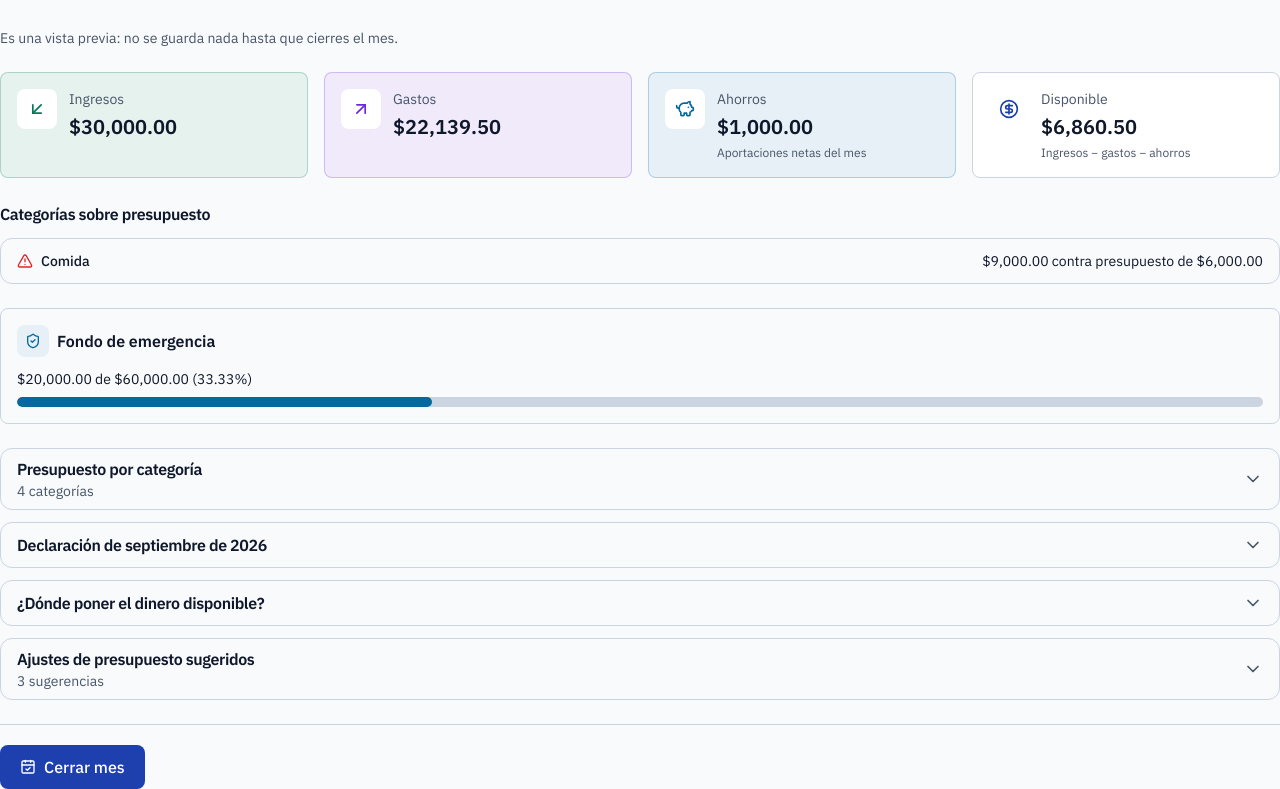
PreviewPanel › keeps the dialog open with the error when storing fails
(page scrolled)
Click the button "Cerrar mes" at (72, 767), box [0,745,145,788]
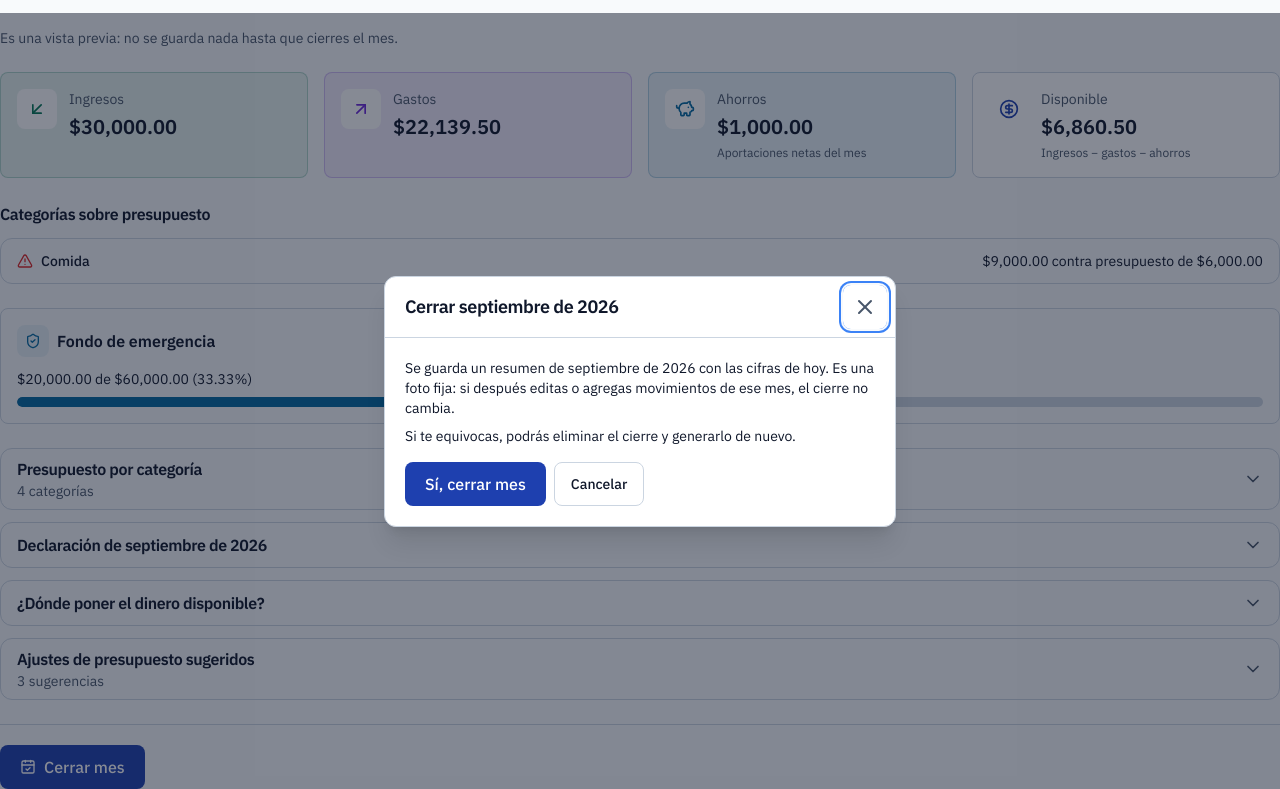
Click the button "Sí, cerrar mes" at (475, 484), box [405,462,546,506]
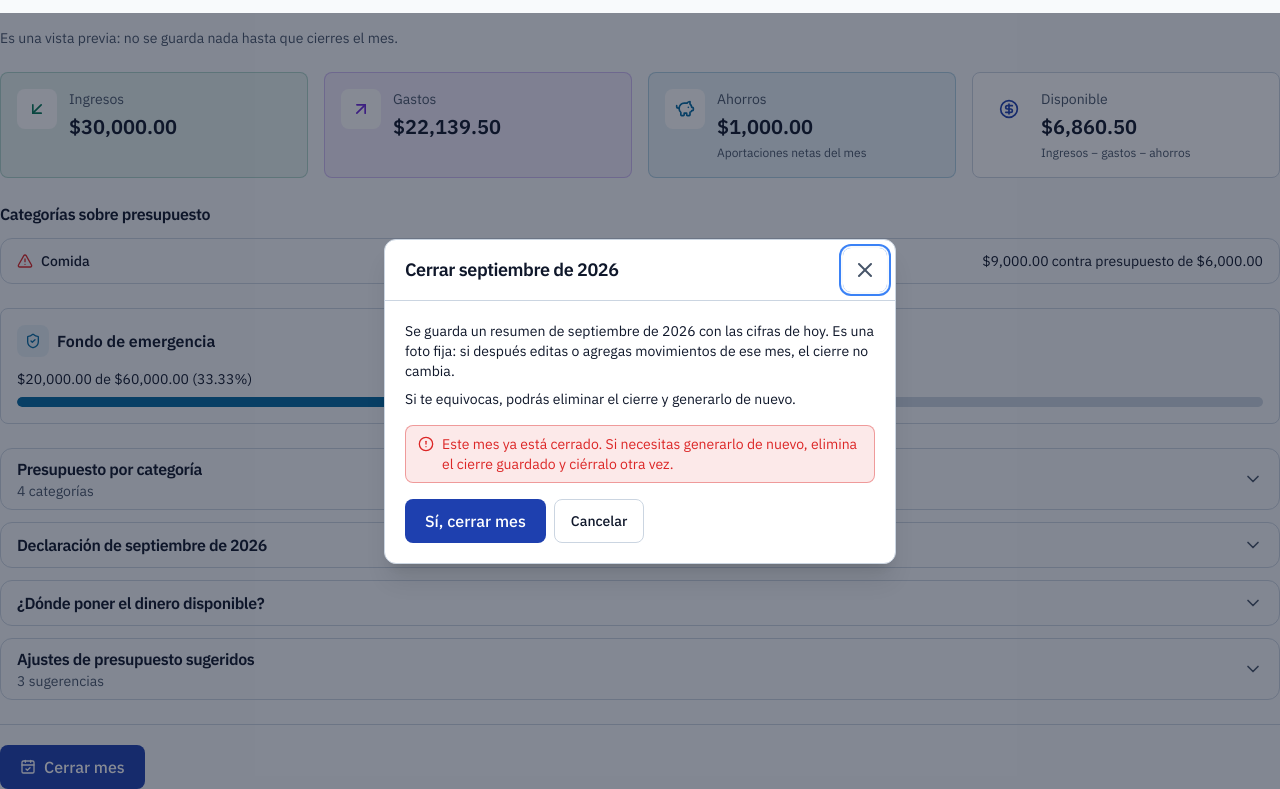
Expected: the message shows "ya está cerrado", [442,434,857,472]
